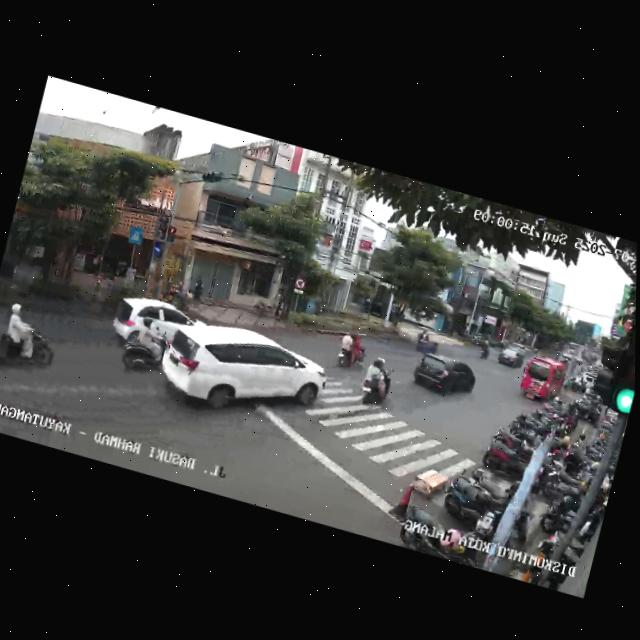car: (151, 308, 332, 445), (107, 289, 210, 365), (408, 346, 481, 407), (517, 351, 569, 408), (495, 342, 526, 372)
motorcycle: (0, 295, 65, 383), (114, 309, 173, 384), (355, 355, 397, 413), (331, 327, 369, 374), (478, 338, 492, 359)
